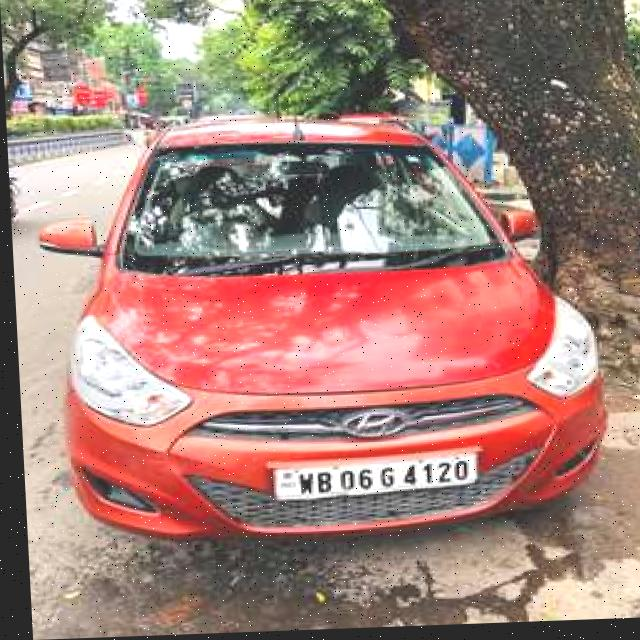plate: (267, 454, 476, 504)
